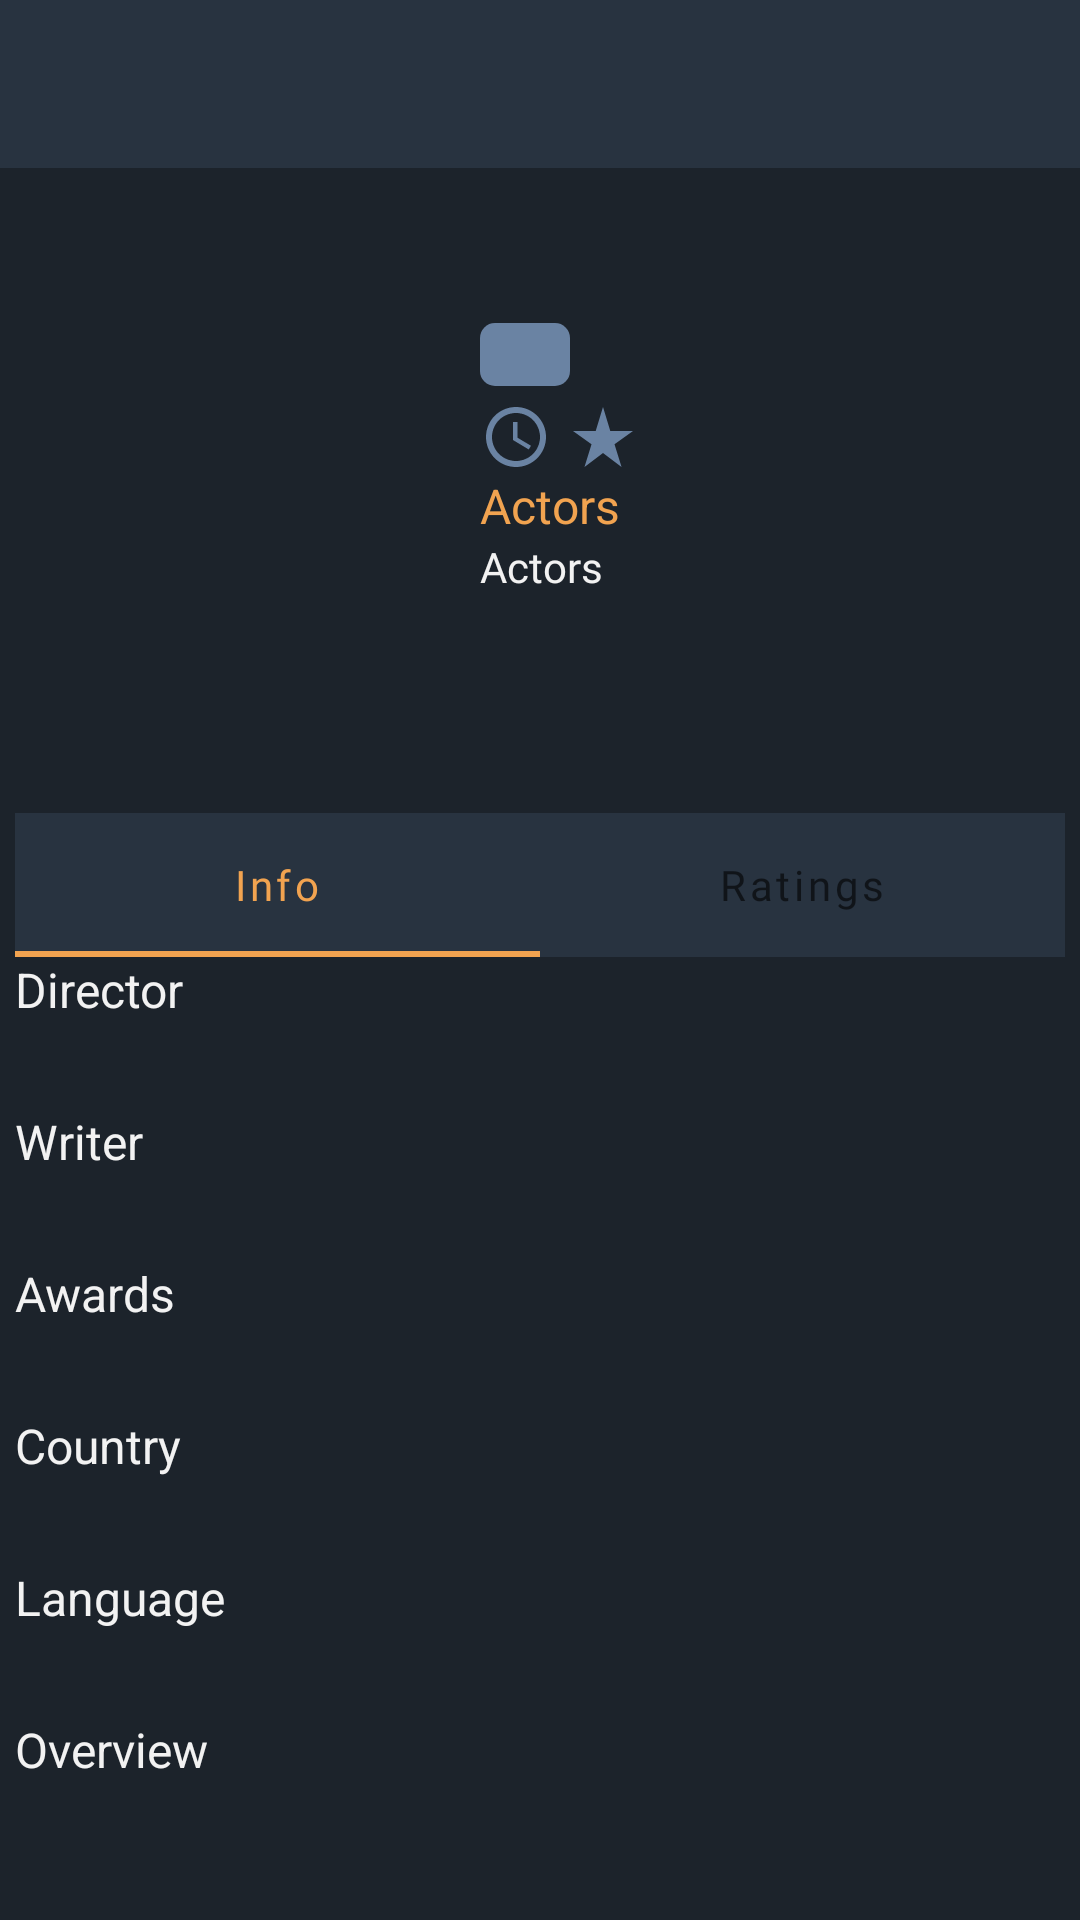

Icon bounding boxes for this 1080x1920 phone screenshot, format region(x1, y1, x2, y2):
star rate: region(573, 408, 633, 467)
time: region(486, 407, 546, 467)
